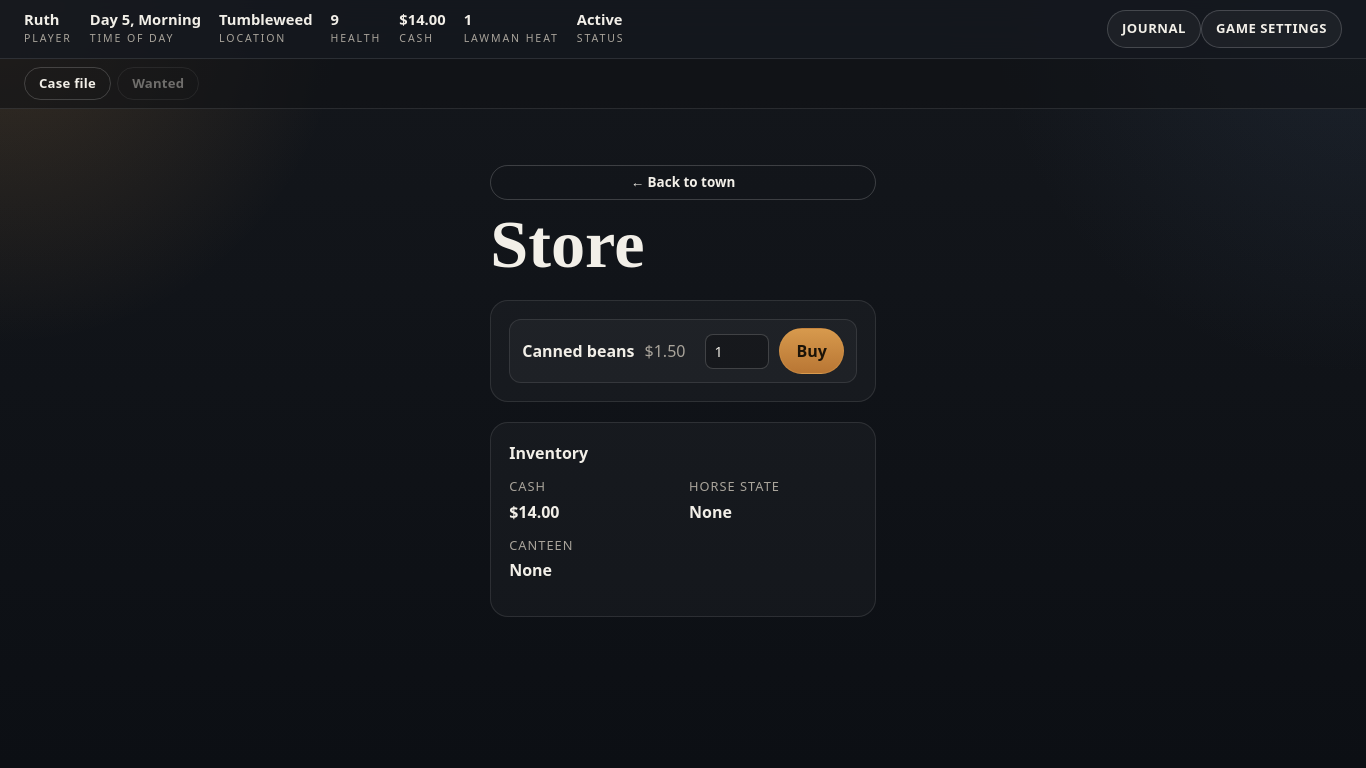
Test: Store purchase feedback › shows the purchase confirmation notice on the store surface after a successful buy
Step 1. Replace the text in the number field named "Quantity for Canned beans" with "3" → (737, 351), box [705,334,769,369]
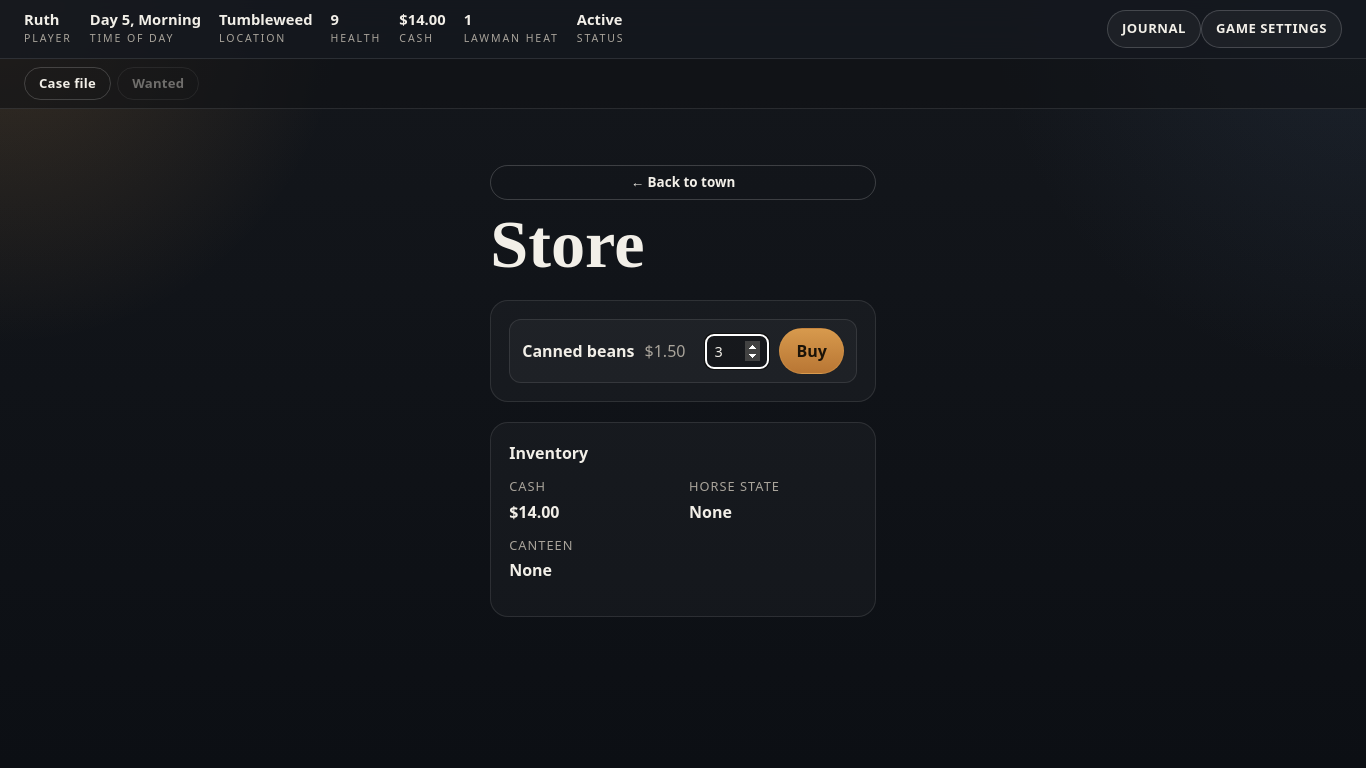
Step 2. Click the button "Buy" → (812, 351), box [779,328,844,374]
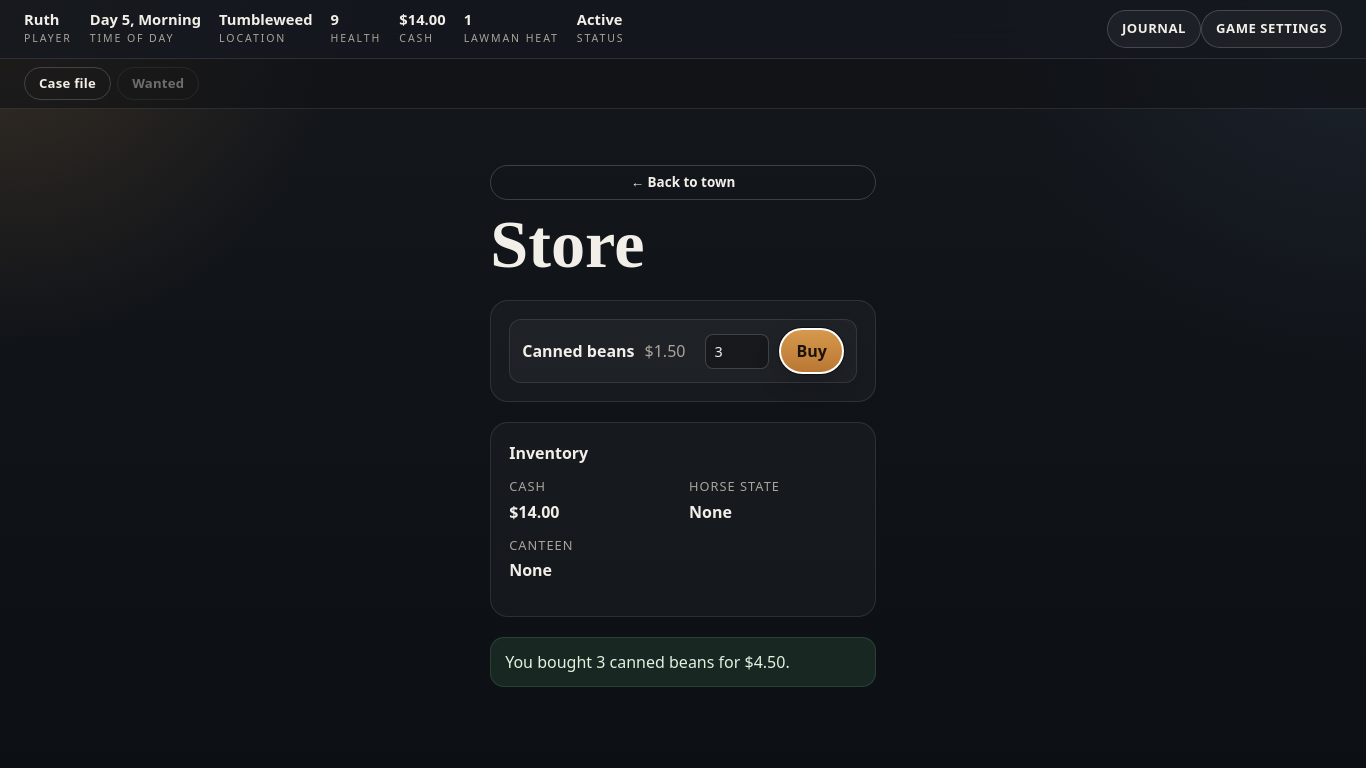
Now the text "You bought 3 canned beans for $4.50." is shown, box [490,637,876,687]
